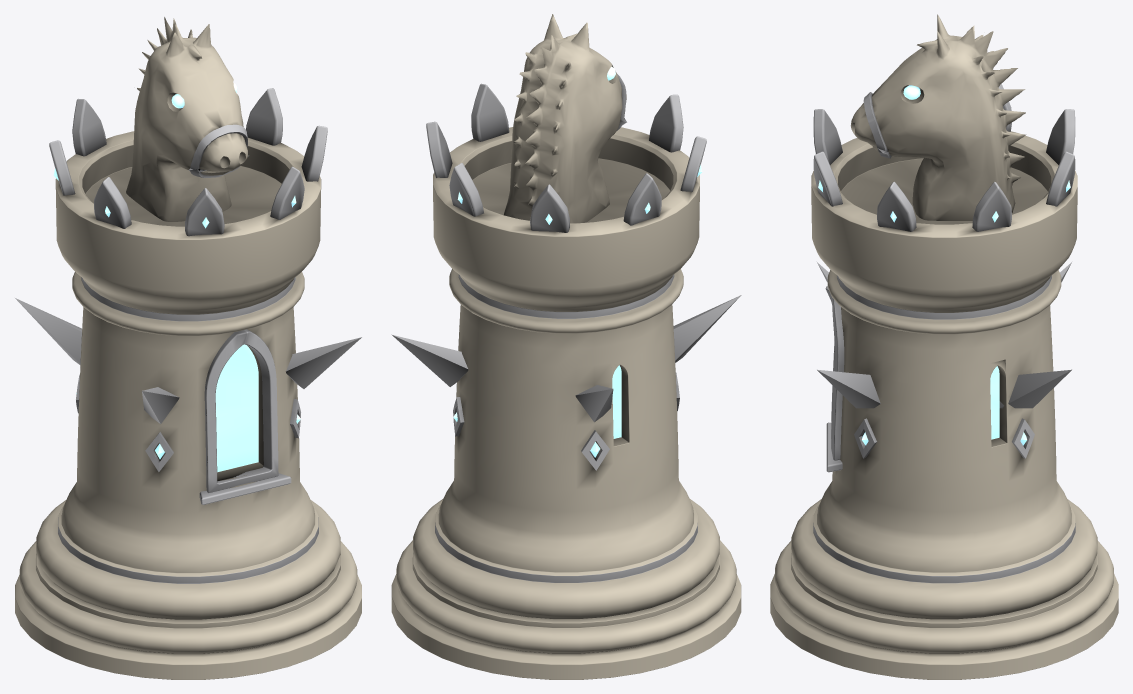
Rendered from aiwok.glb.
3 renders of one model, left to right at view 1: azimuth 30°, elevation 25°; view 2: azimuth 150°, elevation 25°; view 3: azimuth 270°, elevation 25°, orthographic.
Parts seen in each view (by area): view 1: aiwok; view 2: aiwok; view 3: aiwok.
Part boxes in pixels (x1,y1,x2,y2): aiwok: (15, 17, 361, 679); aiwok: (391, 14, 741, 679); aiwok: (770, 14, 1118, 679).
Bounding box in the file's own units: 0.7372 × 1.36 × 0.7372.
